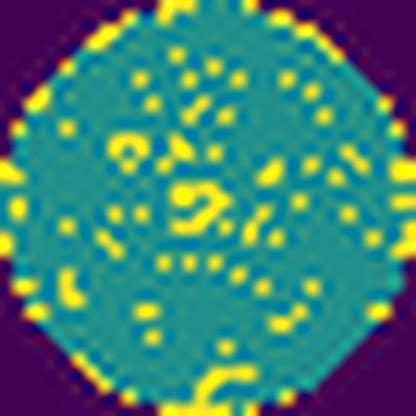Center: (166, 176, 235, 243)
